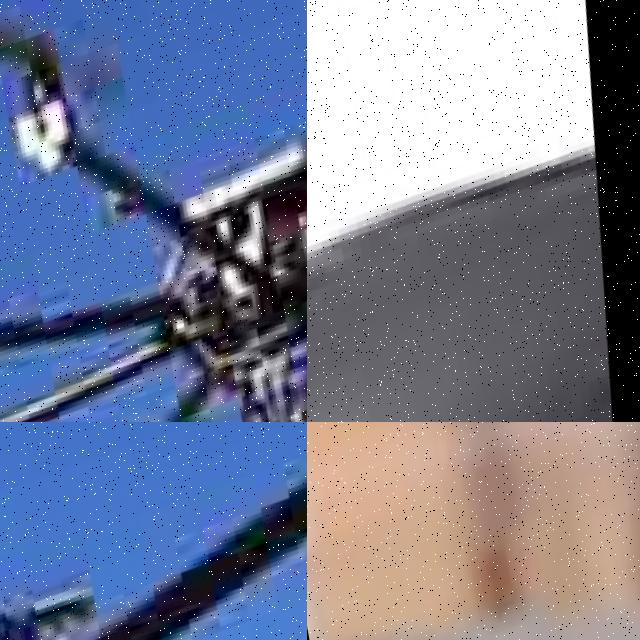drone: (307, 0, 640, 422), (0, 0, 307, 422), (307, 422, 640, 640), (0, 422, 307, 640)
